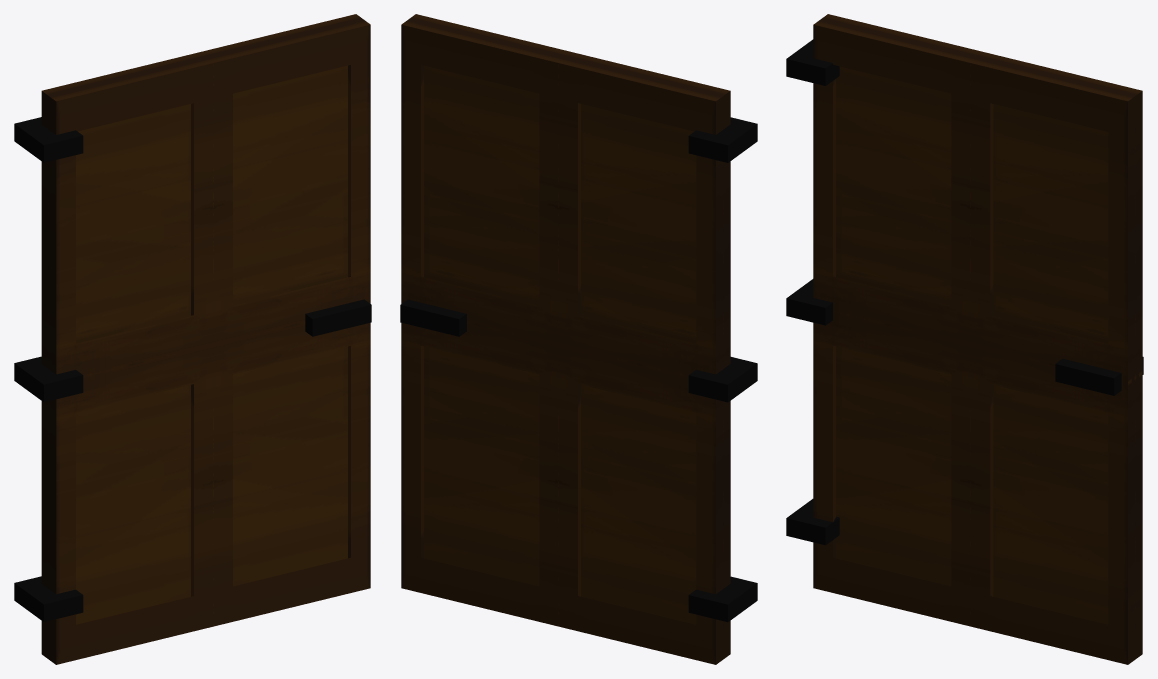
Rendered from M_INT_Door.fbx.
3 renders of one model, left to right at view 1: azimuth 30°, elevation 25°; view 2: azimuth 150°, elevation 25°; view 3: azimuth 330°, elevation 25°, orthographic.
Parts seen in each view (by area): view 1: Base.004, Hinge, Knob; view 2: Base.004, Hinge, Knob; view 3: Base.004, Hinge, Knob.
Boxes of the visible parts, <box> form: Base.004: <box>41,14,370,664</box>; Hinge: <box>14,117,83,621</box>; Knob: <box>305,299,371,336</box>; Base.004: <box>401,14,730,664</box>; Hinge: <box>688,117,757,622</box>; Knob: <box>400,299,466,336</box>; Base.004: <box>813,14,1142,664</box>; Hinge: <box>786,39,839,545</box>; Knob: <box>1055,357,1143,395</box>.
Size of the model in its own units: 163 by 263 by 25.
1 material, 1 textured.
